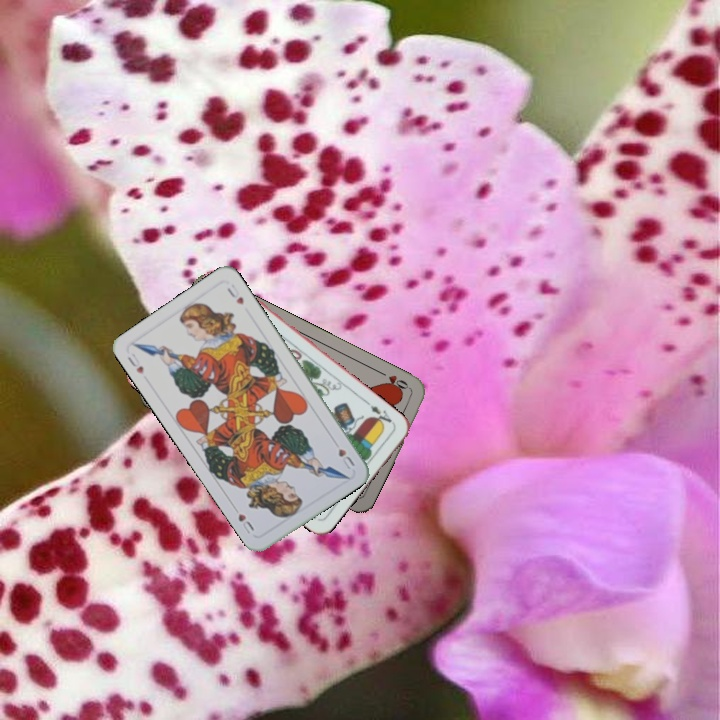EA: (366, 401, 397, 429)
HO: (376, 367, 413, 395)
HU: (334, 444, 357, 472), (123, 349, 146, 376)
